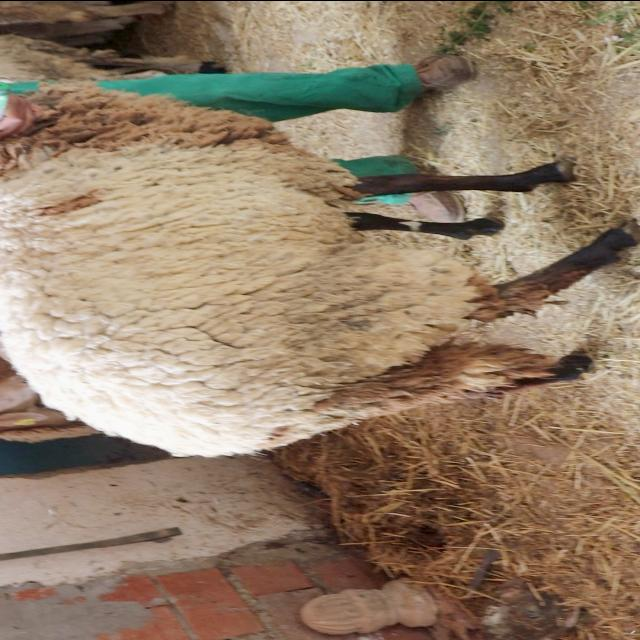Score_5: (0, 82, 639, 456)
